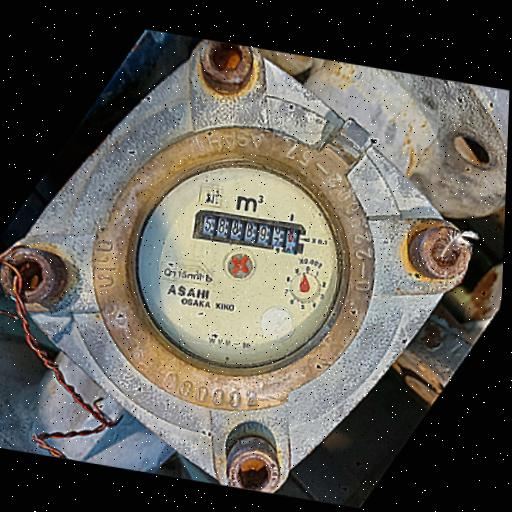5: (201, 214, 216, 235)
7: (272, 224, 285, 246)
8: (284, 227, 297, 254), (216, 216, 229, 238), (244, 220, 257, 241), (231, 219, 242, 240)
9: (258, 222, 271, 243)
border_water_meter_number: (192, 206, 309, 257)
